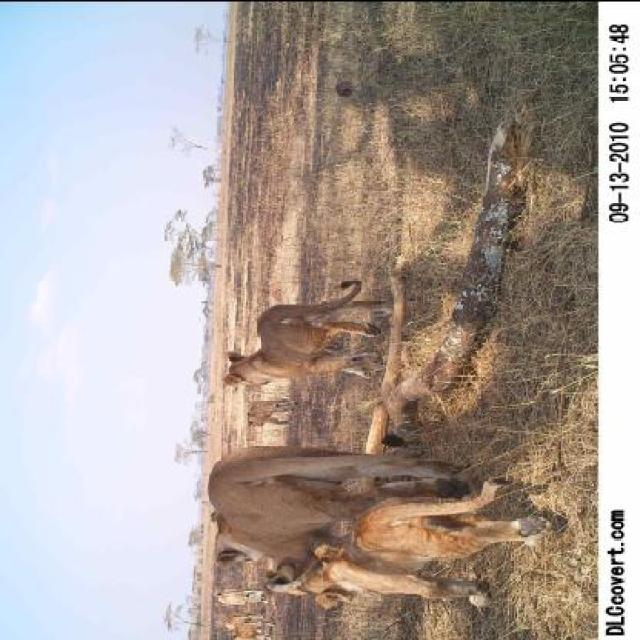Lion: (168, 426, 438, 577), (283, 477, 545, 611), (211, 255, 417, 391)
